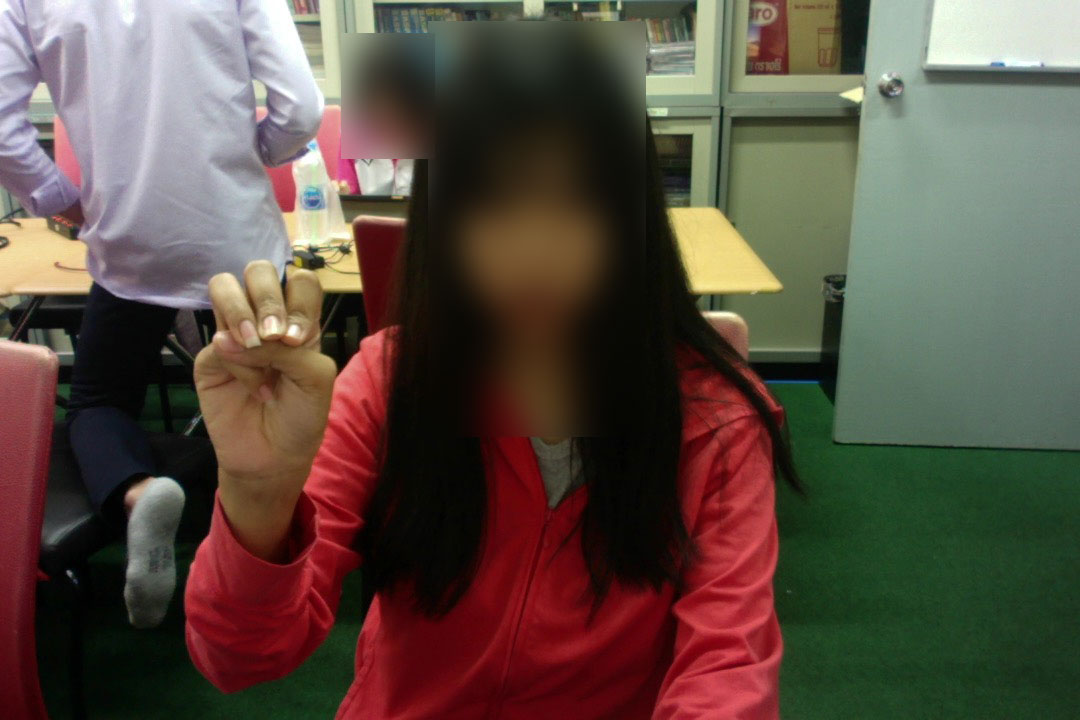mor: (184, 251, 344, 498)
